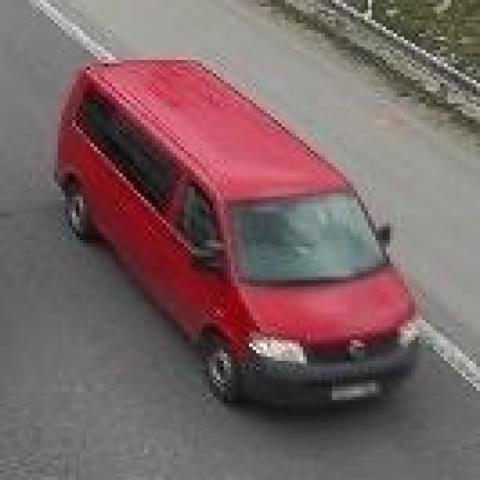van: (58, 62, 418, 409)
